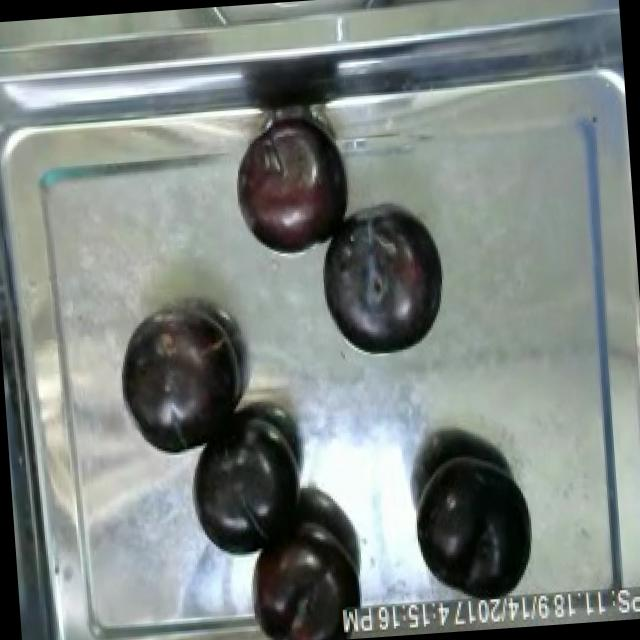Fruit: (401, 440, 542, 612), (115, 300, 252, 468), (182, 410, 316, 570), (314, 205, 450, 362), (228, 120, 356, 264)
